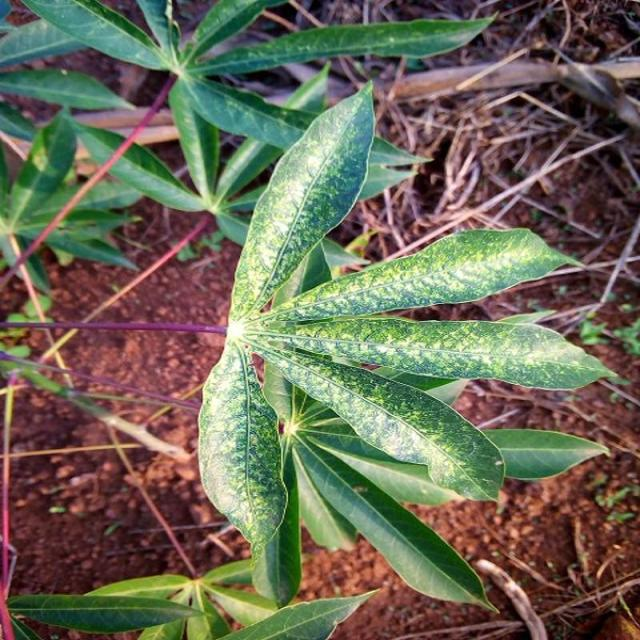cassava leaf: (198, 77, 616, 612)
